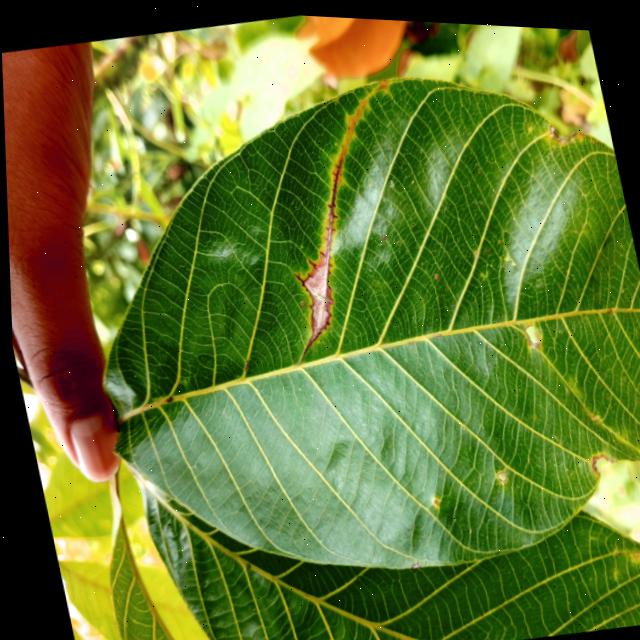Colletotrichum: (379, 228, 384, 235)
Corynespora: (260, 148, 381, 356)
